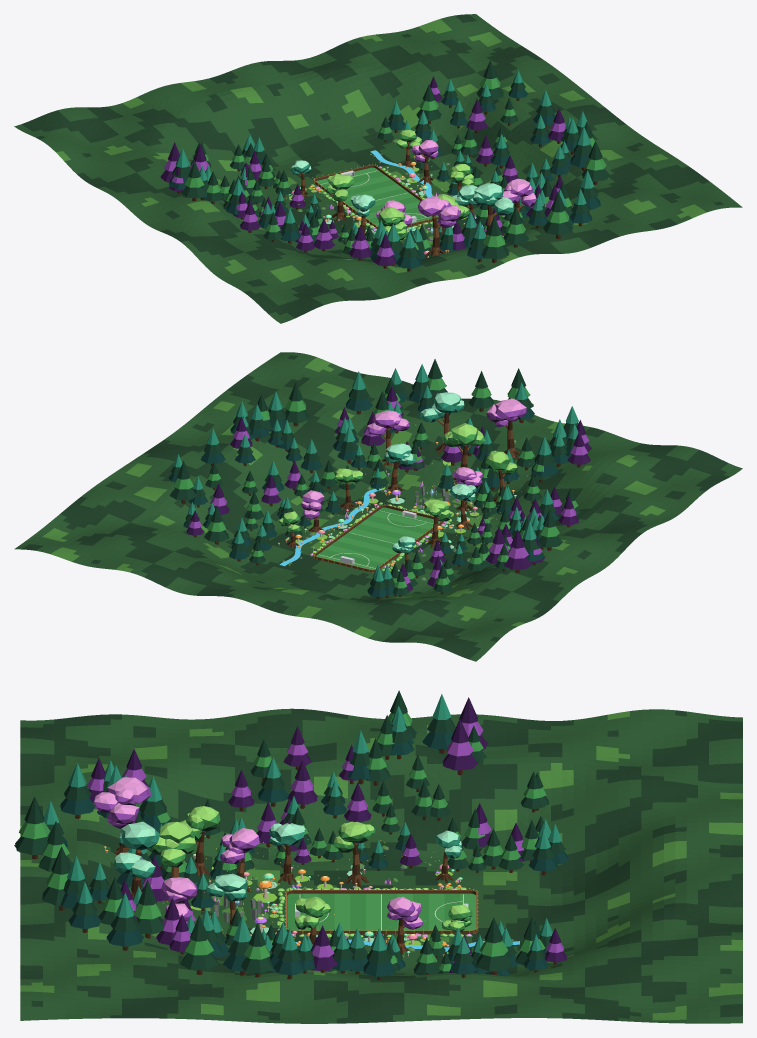
The model's file is magicwood.glb.
3 renders of one model, top to bottom at view 1: azimuth 30°, elevation 25°; view 2: azimuth 150°, elevation 25°; view 3: azimuth 270°, elevation 25°, orthographic. The views are drawn at different scales.
Parts seen in each view (by area): view 1: scenery, turf; view 2: scenery, turf; view 3: scenery, turf.
Part boxes in pixels (<box>): scenery: <box>14,14,742,323</box>; turf: <box>316,167,432,227</box>; scenery: <box>14,352,742,661</box>; turf: <box>316,507,440,572</box>; scenery: <box>14,690,742,1023</box>; turf: <box>287,893,475,933</box>.
Size of what is drawn, in the model's own units: 230 by 40.26 by 232.
2 materials, 2 textured.
